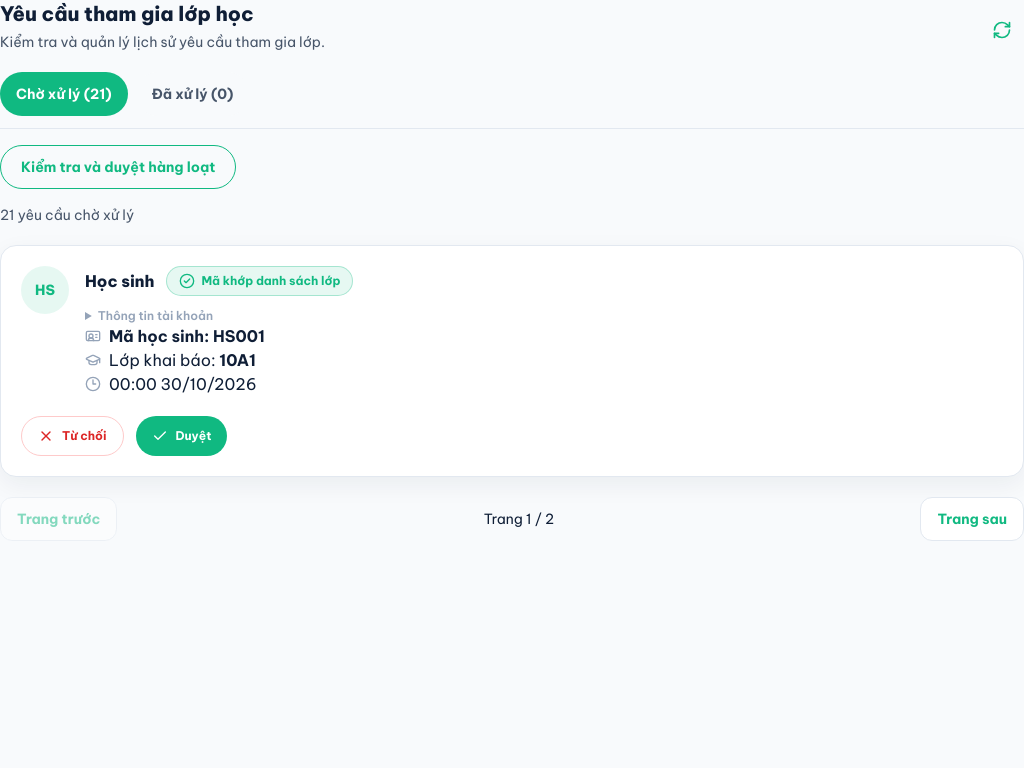
Test: teacher join request management › returns to the last valid pending page after processing its only request
Click the button "Trang sau": (972, 519) [920,497,1023,541]
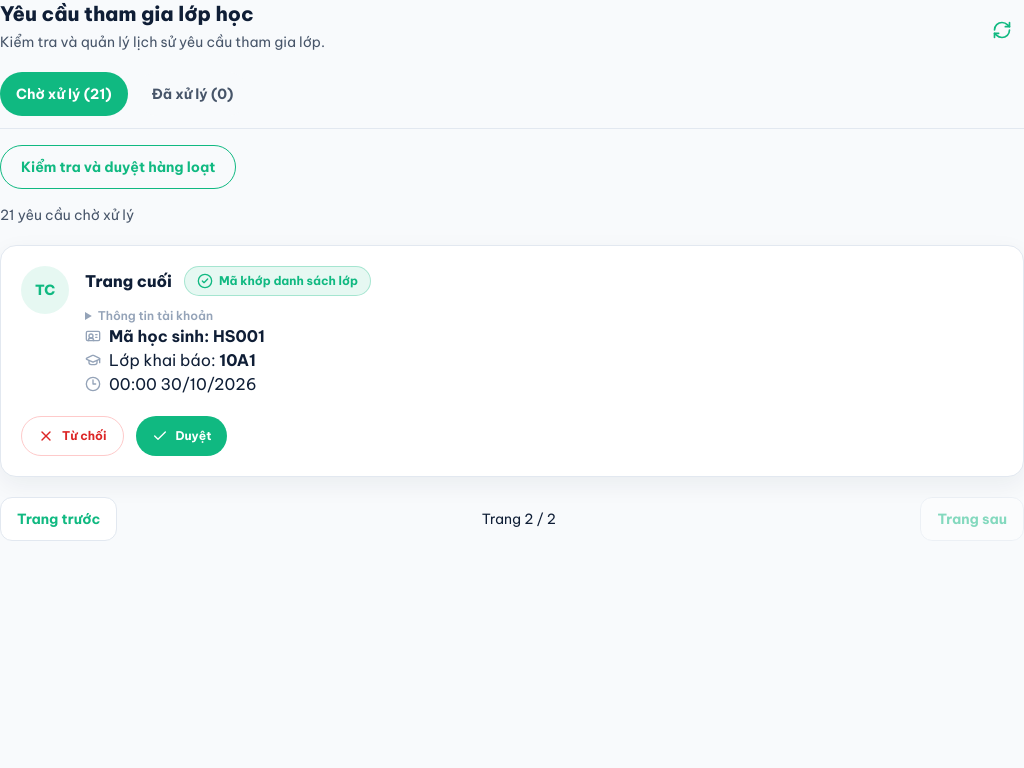
Expected: the text "Trang cuối" is shown, [85,269,172,293]
Click the button "Từ chối": (72, 436) [21,416,124,456]
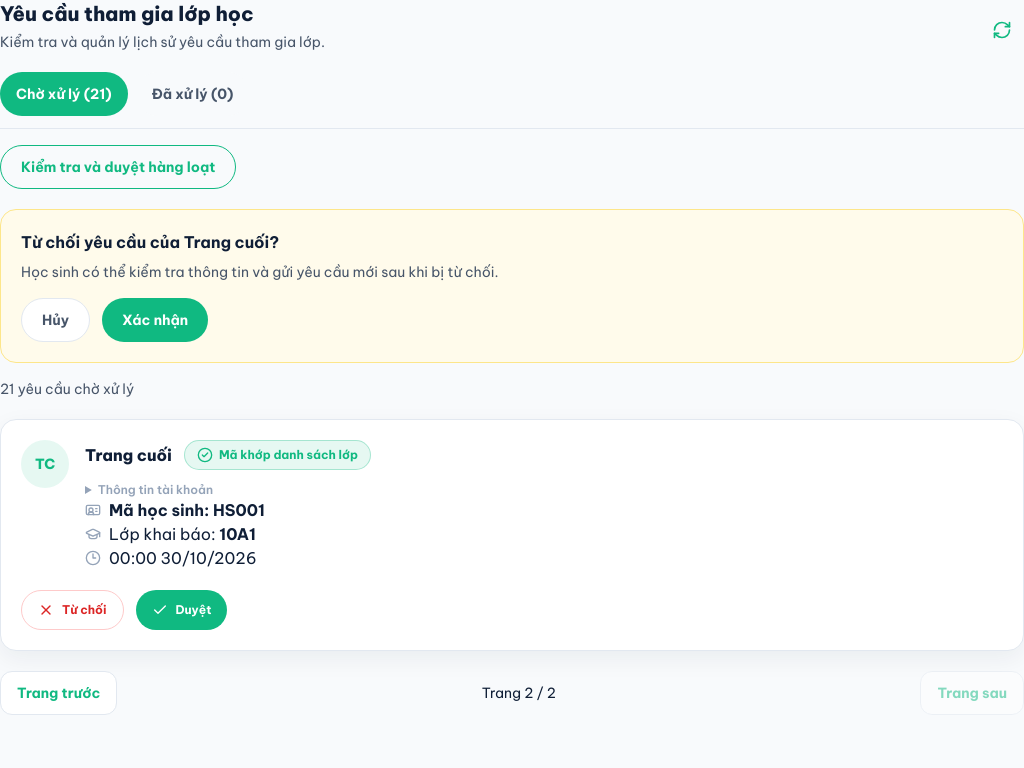
Click the button "Xác nhận": (155, 320) [102,298,208,342]
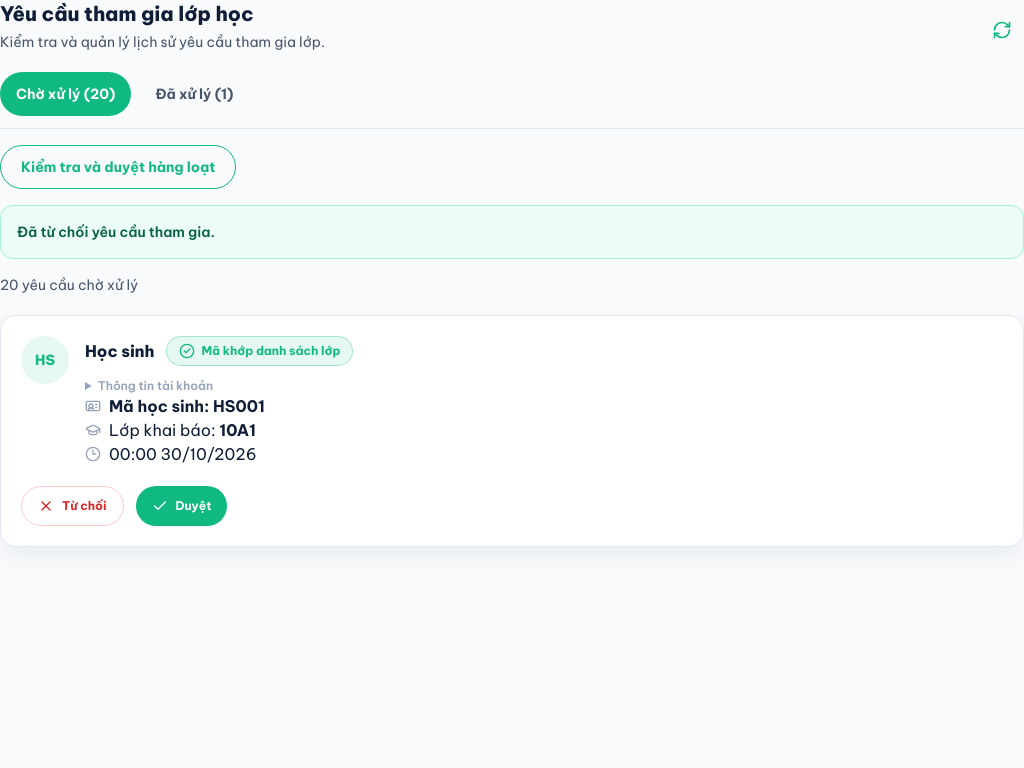
Expected: the tab "Đã xử lý (1)" is shown, [139,72,249,116]
Expected: the text "Trang cuối" is gone
